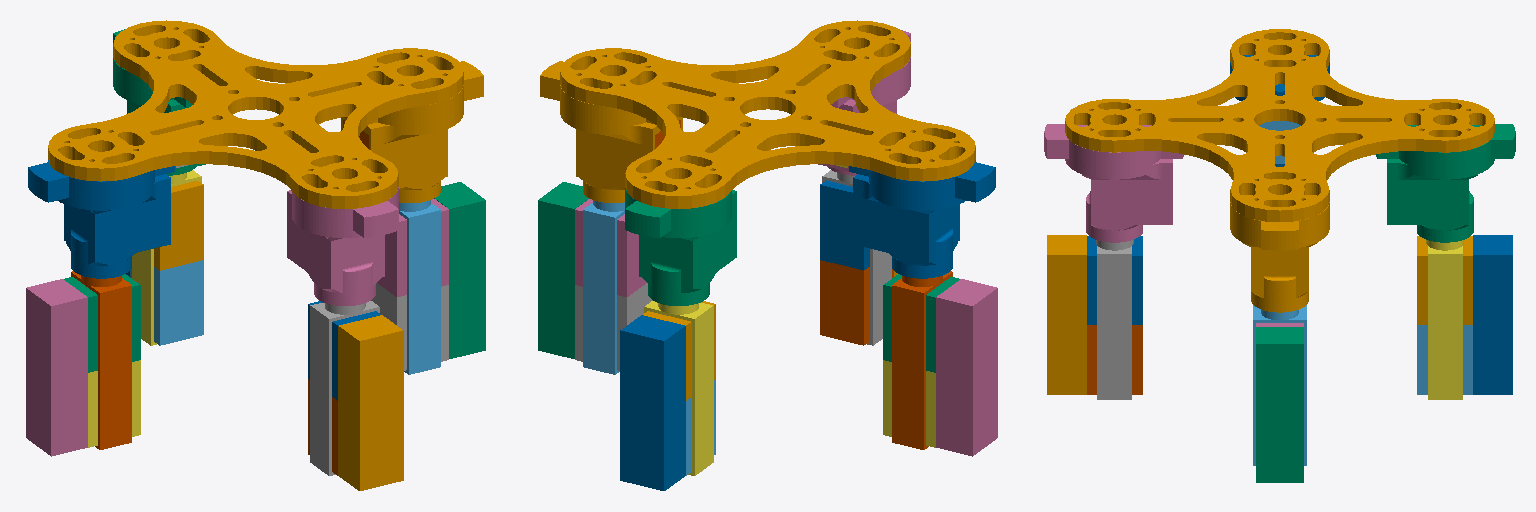
--- What the picture shows (computed from the rendered views, not written in the file) ---
Views: 3 orthographic renders of the robot side by side, from view 1: azimuth 30°, elevation 25°; view 2: azimuth 150°, elevation 25°; view 3: azimuth 270°, elevation 25°.
Robot: overconstrained_gripper — 41 links, 40 joints (20 revolute, 20 fixed); root link gripper_base; default pose: all joints at 0.
Visible links, largest first — view 1: gripper_base, b-dual_servo_transmission, a-base_motor_frame, a-dual_servo_transmission, b-base_motor_frame, c-base_motor_frame, c-dual_servo_transmission, a-dual_servo_shell, c-dual_servo_shell, b-dual_servo_shell, d-xm430_2, d-xm430_1 (+8 smaller); view 2: gripper_base, d-dual_servo_transmission, a-base_motor_frame, a-dual_servo_transmission, d-base_motor_frame, c-base_motor_frame, c-dual_servo_transmission, a-dual_servo_shell, c-dual_servo_shell, d-dual_servo_shell, b-xm430_2, b-xm430_1 (+8 smaller); view 3: gripper_base, b-base_motor_frame, d-base_motor_frame, c-dual_servo_transmission, b-dual_servo_transmission, d-dual_servo_transmission, c-base_motor_frame, b-dual_servo_shell, d-dual_servo_shell, b-xm430_1, d-xm430_1, c-dual_servo_shell (+2 smaller).
Boxes of the visible links, left/top/right/bottom form: gripper_base: left=48, top=20, right=463, bottom=208; b-dual_servo_transmission: left=338, top=315, right=403, bottom=490; a-base_motor_frame: left=28, top=160, right=174, bottom=278; a-dual_servo_transmission: left=26, top=279, right=87, bottom=456; b-base_motor_frame: left=287, top=187, right=398, bottom=305; c-base_motor_frame: left=341, top=61, right=483, bottom=202; c-dual_servo_transmission: left=434, top=182, right=485, bottom=358; a-dual_servo_shell: left=71, top=271, right=131, bottom=449; c-dual_servo_shell: left=399, top=200, right=440, bottom=374; b-dual_servo_shell: left=310, top=301, right=379, bottom=475; d-xm430_2: left=130, top=260, right=203, bottom=345; d-xm430_1: left=154, top=181, right=203, bottom=270; gripper_base: left=560, top=20, right=975, bottom=208; d-dual_servo_transmission: left=620, top=315, right=685, bottom=490; a-base_motor_frame: left=849, top=160, right=995, bottom=278; a-dual_servo_transmission: left=936, top=279, right=997, bottom=456; d-base_motor_frame: left=625, top=187, right=736, bottom=305; c-base_motor_frame: left=540, top=61, right=682, bottom=202; c-dual_servo_transmission: left=538, top=182, right=589, bottom=358; a-dual_servo_shell: left=892, top=271, right=952, bottom=449; c-dual_servo_shell: left=583, top=200, right=624, bottom=374; d-dual_servo_shell: left=644, top=301, right=713, bottom=475; b-xm430_2: left=820, top=260, right=893, bottom=345; b-xm430_1: left=820, top=180, right=869, bottom=270; gripper_base: left=1065, top=29, right=1494, bottom=221; b-base_motor_frame: left=1044, top=124, right=1183, bottom=242; d-base_motor_frame: left=1376, top=124, right=1515, bottom=242; c-dual_servo_transmission: left=1256, top=327, right=1303, bottom=482; b-dual_servo_transmission: left=1047, top=235, right=1086, bottom=394; d-dual_servo_transmission: left=1473, top=235, right=1512, bottom=394; c-base_motor_frame: left=1230, top=195, right=1329, bottom=312; b-dual_servo_shell: left=1096, top=240, right=1133, bottom=399; d-dual_servo_shell: left=1426, top=240, right=1463, bottom=399; b-xm430_1: left=1087, top=236, right=1142, bottom=324; d-xm430_1: left=1417, top=236, right=1472, bottom=324; c-dual_servo_shell: left=1253, top=305, right=1306, bottom=465.
Bounding box of the posed robot: 0.285 × 0.285 × 0.1793 m (x, y, z).
25 mesh visuals loaded from 9 distinct referenced files (3 binary STL, 2 OBJ); not drawn: 16 (reference not matched to a file when rendering).

The robot description file, URDF, robot "overconstrained_gripper":
<?xml version="1.0" ?>
<!-- =================================================================================== -->
<!-- |    This document was autogenerated by xacro from robot_xacro/gripper.urdf.xacro | -->
<!-- |    EDITING THIS FILE BY HAND IS NOT RECOMMENDED                                 | -->
<!-- =================================================================================== -->
<robot xmlns:xacro="http://www.ros.org/wiki/xacro" name="overconstrained_gripper">
  <!--Import parts from xacro file-->
  <link name="gripper_base">
    <inertial>
      <origin xyz="0 0 0.004" rpy="0 0 0"/>
      <mass value="0.2"/>
      <inertia ixx="0.001" iyy="0.001" izz="0.001" ixy="0.0" iyz="0.0" ixz="0.0"/>
    </inertial>
    <visual>
      <origin xyz="0.0 0.0 0.0" rpy="0.0 0.0 0.785"/>
      <geometry>
        <mesh filename="./mesh/frames/gripper_vertical.obj" scale="0.001 0.001 0.001"/>
      </geometry>
    </visual>
    <collision>
      <origin xyz="0.0 0.0 0.0" rpy="0.0 0.0 0.785"/>
      <geometry>
        <mesh filename="./mesh/frames/gripper_vertical.obj" scale="0.001 0.001 0.001"/>
      </geometry>
    </collision>
  </link>
  <!-->
                module 4

       module1  . origin  module 3

                 module 2
    <-->
  <link name="a-xm430_0">
    <inertial>
      <origin xyz="-4.0773796e-3 -1.5304911e-2 -1.6871895e-2" rpy="0 0 0"/>
      <mass value="0.082"/>
      <inertia ixx="2.3729564e-5" ixy="-1.3079758e-7" ixz="-8.1403365e-8" iyy="1.3112295e-5" iyz="-1.9659314e-6" izz="2.0942871e-5"/>
    </inertial>
    <visual>
      <origin xyz="0.0 0.0 0.0" rpy="0.0 0.0 0.0"/>
      <geometry>
        <mesh filename="../mesh/general/XM430-simplified.stl" scale="0.001 0.001 0.001"/>
      </geometry>
    </visual>
    <collision>
      <origin xyz="0.0 0.0 0.0" rpy="0.0 0.0 0.0"/>
      <geometry>
        <mesh filename="../mesh/general/XM430-simplified.stl" scale="0.001 0.001 0.001"/>
      </geometry>
    </collision>
  </link>
  <link name="a-xm430_1">
    <inertial>
      <origin xyz="-4.0773796e-3 -1.5304911e-2 -1.6871895e-2" rpy="0 0 0"/>
      <mass value="0.082"/>
      <inertia ixx="2.3729564e-5" ixy="-1.3079758e-7" ixz="-8.1403365e-8" iyy="1.3112295e-5" iyz="-1.9659314e-6" izz="2.0942871e-5"/>
    </inertial>
    <visual>
      <origin xyz="0.0 0.0 0.0" rpy="0.0 0.0 0.0"/>
      <geometry>
        <mesh filename="../mesh/general/XM430-simplified.stl" scale="0.001 0.001 0.001"/>
      </geometry>
    </visual>
    <collision>
      <origin xyz="0.0 0.0 0.0" rpy="0.0 0.0 0.0"/>
      <geometry>
        <mesh filename="../mesh/general/XM430-simplified.stl" scale="0.001 0.001 0.001"/>
      </geometry>
    </collision>
  </link>
  <link name="a-xm430_2">
    <inertial>
      <origin xyz="-4.0773796e-3 -1.5304911e-2 -1.6871895e-2" rpy="0 0 0"/>
      <mass value="0.082"/>
      <inertia ixx="2.3729564e-5" ixy="-1.3079758e-7" ixz="-8.1403365e-8" iyy="1.3112295e-5" iyz="-1.9659314e-6" izz="2.0942871e-5"/>
    </inertial>
    <visual>
      <origin xyz="0.0 0.0 0.0" rpy="0.0 0.0 0.0"/>
      <geometry>
        <mesh filename="../mesh/general/XM430-simplified.stl" scale="0.001 0.001 0.001"/>
      </geometry>
    </visual>
    <collision>
      <origin xyz="0.0 0.0 0.0" rpy="0.0 0.0 0.0"/>
      <geometry>
        <mesh filename="../mesh/general/XM430-simplified.stl" scale="0.001 0.001 0.001"/>
      </geometry>
    </collision>
  </link>
  <link name="a-base_motor_frame">
    <inertial>
      <origin xyz="6.48e-08 -0.0015864406 0.0250889877" rpy="0 0 0"/>
      <mass value="0.0768049156"/>
      <inertia ixx="5.65659e-05" iyy="5.30145e-05" izz="3.40217e-05" ixy="-0.0" iyz="1.1663e-06" ixz="1e-10"/>
    </inertial>
    <visual>
      <origin xyz="0 0 0" rpy="0 0 0"/>
      <geometry>
        <mesh filename="../mesh/general/base_motor_frame_simplified.stl" scale="0.001 0.001 0.001"/>
      </geometry>
    </visual>
    <collision>
      <origin xyz="0 0 0" rpy="0 0 0"/>
      <geometry>
        <mesh filename="../mesh/general/base_motor_frame_simplified.stl" scale="0.001 0.001 0.001"/>
      </geometry>
    </collision>
  </link>
  <link name="a-dual_servo_shell">
    <inertial>
      <origin xyz="0.0005322566 -0.0003161331 0.0506920676" rpy="0 0 0"/>
      <mass value="0.0258069457"/>
      <inertia ixx="4.11451e-05" iyy="4.42386e-05" izz="4.8477e-06" ixy="7.82e-08" iyz="2.774e-07" ixz="-7.721e-07"/>
    </inertial>
    <visual>
      <origin xyz="0.0 0.0 0.0" rpy="0.0 0.0 0.0"/>
      <geometry>
        <mesh filename="../mesh/general/dual_servo_shell_simplified.stl" scale="0.001 0.001 0.001"/>
      </geometry>
    </visual>
    <collision>
      <origin xyz="0.0 0.0 0.0" rpy="0.0 0.0 0.0"/>
      <geometry>
        <mesh filename="../mesh/general/dual_servo_shell_simplified.stl" scale="0.001 0.001 0.001"/>
      </geometry>
    </collision>
  </link>
  <link name="a-dual_servo_transmission">
    <inertial>
      <origin xyz="-1.41e-08 0.0095354556 0.0141401617" rpy="0 0 0"/>
      <mass value="0.0576887165"/>
      <inertia ixx="2.78223e-05" iyy="1.35978e-05" izz="2.50167e-05" ixy="5.7e-09" iyz="4.5419e-06" ixz="-0.0"/>
    </inertial>
    <visual>
      <origin xyz="0.0 0.0 0.0" rpy="0.0 0.0 0.0"/>
      <geometry>
        <mesh filename="../mesh/general/dual_servo_transmission_simplified.obj" scale="0.001 0.001 0.001"/>
      </geometry>
    </visual>
    <collision>
      <origin xyz="0.0 0.0 0.0" rpy="0.0 0.0 0.0"/>
      <geometry>
        <mesh filename="../mesh/general/dual_servo_transmission_simplified.obj" scale="0.001 0.001 0.001"/>
      </geometry>
    </collision>
  </link>
  <link name="a-link1">
    <inertial>
      <origin xyz="0.0024455616 -0.0613330624 -0.0010832509" rpy="0 0 0"/>
      <mass value="0.0299338616"/>
      <inertia ixx="5.2023e-05" iyy="1.979e-06" izz="5.17237e-05" ixy="2.0911e-06" iyz="-5.3953e-06" ixz="4.522e-07"/>
    </inertial>
    <visual>
      <origin xyz="0.0 0.0 0.0" rpy="0.0 0.0 0.0"/>
      <geometry>
        <mesh filename="../mesh/overconstrained/link1.obj" scale="0.001 0.001 0.001"/>
      </geometry>
    </visual>
    <collision>
      <origin xyz="0.0 0.0 0.0" rpy="0.0 0.0 0.0"/>
      <geometry>
        <mesh filename="../mesh/overconstrained/link1.obj" scale="0.001 0.001 0.001"/>
      </geometry>
    </collision>
  </link>
  <link name="a-link2">
    <inertial>
      <origin xyz="0.0025704082 -0.0645378917 0.0038718462" rpy="0 0 0"/>
      <mass value="0.02848145"/>
      <inertia ixx="4.53813e-05" iyy="1.3363e-06" izz="4.55555e-05" ixy="1.8569e-06" iyz="-1.3281e-06" ixz="-1.651e-07"/>
    </inertial>
    <visual>
      <origin xyz="0.0 0.0 0.0" rpy="0.0 0.0 0.0"/>
      <geometry>
        <mesh filename="../mesh/overconstrained/link2.obj" scale="0.001 0.001 0.001"/>
      </geometry>
    </visual>
    <collision>
      <origin xyz="0.0 0.0 0.0" rpy="0.0 0.0 0.0"/>
      <geometry>
        <mesh filename="../mesh/overconstrained/link2.obj" scale="0.001 0.001 0.001"/>
      </geometry>
    </collision>
  </link>
  <link name="a-link4">
    <inertial>
      <origin xyz="-0.0026422902 -0.067590774 -0.0033849791" rpy="0 0 0"/>
      <mass value="0.0275608119"/>
      <inertia ixx="3.84633e-05" iyy="1.4218e-06" izz="3.88256e-05" ixy="-1.6444e-06" iyz="4.345e-07" ixz="-2.013e-07"/>
    </inertial>
    <visual>
      <origin xyz="0.0 0.0 0.0" rpy="0.0 0.0 0.0"/>
      <geometry>
        <mesh filename="../mesh/overconstrained/link4.obj" scale="0.001 0.001 0.001"/>
      </geometry>
    </visual>
    <collision>
      <origin xyz="0.0 0.0 0.0" rpy="0.0 0.0 0.0"/>
      <geometry>
        <mesh filename="../mesh/overconstrained/link4.obj" scale="0.001 0.001 0.001"/>
      </geometry>
    </collision>
  </link>
  <link name="a-link3">
    <inertial>
      <origin xyz="0.002386501 -0.0533785592 -0.0003073645" rpy="0 0 0"/>
      <mass value="0.0217645964"/>
      <inertia ixx="3.57111e-05" iyy="1.2113e-06" izz="3.54138e-05" ixy="1.7199e-06" iyz="-4.1867e-06" ixz="1.471e-07"/>
    </inertial>
    <visual>
      <origin xyz="0.0 0.0 0.0" rpy="0.0 0.0 0.0"/>
      <geometry>
        <mesh filename="../mesh/overconstrained/link3.obj" scale="0.001 0.001 0.001"/>
      </geometry>
    </visual>
    <collision>
      <origin xyz="0.0 0.0 0.0" rpy="0.0 0.0 0.0"/>
      <geometry>
        <mesh filename="../mesh/overconstrained/link3.obj" scale="0.001 0.001 0.001"/>
      </geometry>
    </collision>
  </link>
  <joint name="a-module_to_parent" type="fixed">
    <parent link="gripper_base"/>
    <child link="a-base_motor_frame"/>
    <origin xyz="-0.1 0 0" rpy="3.14159265 0 -1.570796325"/>
  </joint>
  <joint name="a-fix_xm430_0" type="fixed">
    <parent link="a-base_motor_frame"/>
    <child link="a-xm430_0"/>
    <origin xyz="0 0 0.054" rpy="0 0 0"/>
  </joint>
  <joint name="a-fix_xm430_1" type="fixed">
    <parent link="a-dual_servo_shell"/>
    <child link="a-xm430_1"/>
    <origin xyz="0 0.019 0.0334" rpy="-1.570796325 0 0"/>
  </joint>
  <joint name="a-fix_xm430_2" type="fixed">
    <parent link="a-xm430_1"/>
    <child link="a-xm430_2"/>
    <origin xyz="0 -0.0465 0" rpy="0 0 0"/>
  </joint>
  <joint name="a-fix_transmission" type="fixed">
    <parent link="a-xm430_2"/>
    <child link="a-dual_servo_transmission"/>
    <origin xyz="0 0 0" rpy="0 0 0"/>
  </joint>
  <joint name="a-dof1" type="revolute">
    <parent link="a-xm430_0"/>
    <child link="a-dual_servo_shell"/>
    <axis xyz="0 0 -1"/>
    <limit effort="1000" lower="-3.14159265" upper="3.14159265" velocity="1000"/>
    <origin xyz="0 0 0" rpy="0 0 0"/>
  </joint>
  <joint name="a-dof2" type="revolute">
    <parent link="a-xm430_2"/>
    <child link="a-link4"/>
    <axis xyz="0 0 -1"/>
    <limit effort="1000" lower="-3.14159265" upper="3.14159265" velocity="1000"/>
    <origin xyz="0 0 0.0368" rpy="0 0 0"/>
  </joint>
  <joint name="a-dof3" type="revolute">
    <parent link="a-xm430_2"/>
    <child link="a-link1"/>
    <axis xyz="0 0 -1"/>
    <limit effort="1000" lower="-3.14159265" upper="3.14159265" velocity="1000"/>
    <origin xyz="0 0 0.0388" rpy="0 0 0"/>
  </joint>
  <joint name="a-link4_to_link3" type="revolute">
    <parent link="a-link4"/>
    <child link="a-link3"/>
    <axis xyz="0 0 1"/>
    <limit effort="1000" lower="-3.14159265" upper="3.14159265" velocity="1000"/>
    <origin xyz="0.000707 -0.1 0.001707" rpy="0 0.7853981625 0"/>
  </joint>
  <joint name="a-link1_to_link2" type="revolute">
    <parent link="a-link1"/>
    <child link="a-link2"/>
    <axis xyz="0 0 1"/>
    <limit effort="1000" lower="-3.14159265" upper="3.14159265" velocity="1000"/>
    <origin xyz="-0.000707 -0.1 -0.000293" rpy="0 -0.7853981625 0"/>
  </joint>
  <link name="b-xm430_0">
    <inertial>
      <origin xyz="-4.0773796e-3 -1.5304911e-2 -1.6871895e-2" rpy="0 0 0"/>
      <mass value="0.082"/>
      <inertia ixx="2.3729564e-5" ixy="-1.3079758e-7" ixz="-8.1403365e-8" iyy="1.3112295e-5" iyz="-1.9659314e-6" izz="2.0942871e-5"/>
    </inertial>
    <visual>
      <origin xyz="0.0 0.0 0.0" rpy="0.0 0.0 0.0"/>
      <geometry>
        <mesh filename="../mesh/general/XM430-simplified.stl" scale="0.001 0.001 0.001"/>
      </geometry>
    </visual>
    <collision>
      <origin xyz="0.0 0.0 0.0" rpy="0.0 0.0 0.0"/>
      <geometry>
        <mesh filename="../mesh/general/XM430-simplified.stl" scale="0.001 0.001 0.001"/>
      </geometry>
    </collision>
  </link>
  <link name="b-xm430_1">
    <inertial>
      <origin xyz="-4.0773796e-3 -1.5304911e-2 -1.6871895e-2" rpy="0 0 0"/>
      <mass value="0.082"/>
      <inertia ixx="2.3729564e-5" ixy="-1.3079758e-7" ixz="-8.1403365e-8" iyy="1.3112295e-5" iyz="-1.9659314e-6" izz="2.0942871e-5"/>
    </inertial>
    <visual>
      <origin xyz="0.0 0.0 0.0" rpy="0.0 0.0 0.0"/>
      <geometry>
        <mesh filename="../mesh/general/XM430-simplified.stl" scale="0.001 0.001 0.001"/>
      </geometry>
    </visual>
    <collision>
      <origin xyz="0.0 0.0 0.0" rpy="0.0 0.0 0.0"/>
      <geometry>
        <mesh filename="../mesh/general/XM430-simplified.stl" scale="0.001 0.001 0.001"/>
      </geometry>
    </collision>
  </link>
  <link name="b-xm430_2">
    <inertial>
      <origin xyz="-4.0773796e-3 -1.5304911e-2 -1.6871895e-2" rpy="0 0 0"/>
      <mass value="0.082"/>
      <inertia ixx="2.3729564e-5" ixy="-1.3079758e-7" ixz="-8.1403365e-8" iyy="1.3112295e-5" iyz="-1.9659314e-6" izz="2.0942871e-5"/>
    </inertial>
    <visual>
      <origin xyz="0.0 0.0 0.0" rpy="0.0 0.0 0.0"/>
      <geometry>
        <mesh filename="../mesh/general/XM430-simplified.stl" scale="0.001 0.001 0.001"/>
      </geometry>
    </visual>
    <collision>
      <origin xyz="0.0 0.0 0.0" rpy="0.0 0.0 0.0"/>
      <geometry>
        <mesh filename="../mesh/general/XM430-simplified.stl" scale="0.001 0.001 0.001"/>
      </geometry>
    </collision>
  </link>
  <link name="b-base_motor_frame">
    <inertial>
      <origin xyz="6.48e-08 -0.0015864406 0.0250889877" rpy="0 0 0"/>
      <mass value="0.0768049156"/>
      <inertia ixx="5.65659e-05" iyy="5.30145e-05" izz="3.40217e-05" ixy="-0.0" iyz="1.1663e-06" ixz="1e-10"/>
    </inertial>
    <visual>
      <origin xyz="0 0 0" rpy="0 0 0"/>
      <geometry>
        <mesh filename="../mesh/general/base_motor_frame_simplified.stl" scale="0.001 0.001 0.001"/>
      </geometry>
    </visual>
    <collision>
      <origin xyz="0 0 0" rpy="0 0 0"/>
      <geometry>
        <mesh filename="../mesh/general/base_motor_frame_simplified.stl" scale="0.001 0.001 0.001"/>
      </geometry>
    </collision>
  </link>
  <link name="b-dual_servo_shell">
    <inertial>
      <origin xyz="0.0005322566 -0.0003161331 0.0506920676" rpy="0 0 0"/>
      <mass value="0.0258069457"/>
      <inertia ixx="4.11451e-05" iyy="4.42386e-05" izz="4.8477e-06" ixy="7.82e-08" iyz="2.774e-07" ixz="-7.721e-07"/>
    </inertial>
    <visual>
      <origin xyz="0.0 0.0 0.0" rpy="0.0 0.0 0.0"/>
      <geometry>
        <mesh filename="../mesh/general/dual_servo_shell_simplified.stl" scale="0.001 0.001 0.001"/>
      </geometry>
    </visual>
    <collision>
      <origin xyz="0.0 0.0 0.0" rpy="0.0 0.0 0.0"/>
      <geometry>
        <mesh filename="../mesh/general/dual_servo_shell_simplified.stl" scale="0.001 0.001 0.001"/>
      </geometry>
    </collision>
  </link>
  <link name="b-dual_servo_transmission">
    <inertial>
      <origin xyz="-1.41e-08 0.0095354556 0.0141401617" rpy="0 0 0"/>
      <mass value="0.0576887165"/>
      <inertia ixx="2.78223e-05" iyy="1.35978e-05" izz="2.50167e-05" ixy="5.7e-09" iyz="4.5419e-06" ixz="-0.0"/>
    </inertial>
    <visual>
      <origin xyz="0.0 0.0 0.0" rpy="0.0 0.0 0.0"/>
      <geometry>
        <mesh filename="../mesh/general/dual_servo_transmission_simplified.obj" scale="0.001 0.001 0.001"/>
      </geometry>
    </visual>
    <collision>
      <origin xyz="0.0 0.0 0.0" rpy="0.0 0.0 0.0"/>
      <geometry>
        <mesh filename="../mesh/general/dual_servo_transmission_simplified.obj" scale="0.001 0.001 0.001"/>
      </geometry>
    </collision>
  </link>
  <link name="b-link1">
    <inertial>
      <origin xyz="0.0024455616 -0.0613330624 -0.0010832509" rpy="0 0 0"/>
      <mass value="0.0299338616"/>
      <inertia ixx="5.2023e-05" iyy="1.979e-06" izz="5.17237e-05" ixy="2.0911e-06" iyz="-5.3953e-06" ixz="4.522e-07"/>
    </inertial>
    <visual>
      <origin xyz="0.0 0.0 0.0" rpy="0.0 0.0 0.0"/>
      <geometry>
        <mesh filename="../mesh/overconstrained/link1.obj" scale="0.001 0.001 0.001"/>
      </geometry>
    </visual>
    <collision>
      <origin xyz="0.0 0.0 0.0" rpy="0.0 0.0 0.0"/>
      <geometry>
        <mesh filename="../mesh/overconstrained/link1.obj" scale="0.001 0.001 0.001"/>
      </geometry>
    </collision>
  </link>
  <link name="b-link2">
    <inertial>
      <origin xyz="0.0025704082 -0.0645378917 0.0038718462" rpy="0 0 0"/>
      <mass value="0.02848145"/>
      <inertia ixx="4.53813e-05" iyy="1.3363e-06" izz="4.55555e-05" ixy="1.8569e-06" iyz="-1.3281e-06" ixz="-1.651e-07"/>
    </inertial>
    <visual>
      <origin xyz="0.0 0.0 0.0" rpy="0.0 0.0 0.0"/>
      <geometry>
        <mesh filename="../mesh/overconstrained/link2.obj" scale="0.001 0.001 0.001"/>
      </geometry>
    </visual>
    <collision>
      <origin xyz="0.0 0.0 0.0" rpy="0.0 0.0 0.0"/>
      <geometry>
        <mesh filename="../mesh/overconstrained/link2.obj" scale="0.001 0.001 0.001"/>
      </geometry>
    </collision>
  </link>
  <link name="b-link4">
    <inertial>
      <origin xyz="-0.0026422902 -0.067590774 -0.0033849791" rpy="0 0 0"/>
      <mass value="0.0275608119"/>
      <inertia ixx="3.84633e-05" iyy="1.4218e-06" izz="3.88256e-05" ixy="-1.6444e-06" iyz="4.345e-07" ixz="-2.013e-07"/>
    </inertial>
    <visual>
      <origin xyz="0.0 0.0 0.0" rpy="0.0 0.0 0.0"/>
      <geometry>
        <mesh filename="../mesh/overconstrained/link4.obj" scale="0.001 0.001 0.001"/>
      </geometry>
    </visual>
    <collision>
      <origin xyz="0.0 0.0 0.0" rpy="0.0 0.0 0.0"/>
      <geometry>
        <mesh filename="../mesh/overconstrained/link4.obj" scale="0.001 0.001 0.001"/>
      </geometry>
    </collision>
  </link>
  <link name="b-link3">
    <inertial>
      <origin xyz="0.002386501 -0.0533785592 -0.0003073645" rpy="0 0 0"/>
      <mass value="0.0217645964"/>
      <inertia ixx="3.57111e-05" iyy="1.2113e-06" izz="3.54138e-05" ixy="1.7199e-06" iyz="-4.1867e-06" ixz="1.471e-07"/>
    </inertial>
    <visual>
      <origin xyz="0.0 0.0 0.0" rpy="0.0 0.0 0.0"/>
      <geometry>
        <mesh filename="../mesh/overconstrained/link3.obj" scale="0.001 0.001 0.001"/>
      </geometry>
    </visual>
    <collision>
      <origin xyz="0.0 0.0 0.0" rpy="0.0 0.0 0.0"/>
      <geometry>
        <mesh filename="../mesh/overconstrained/link3.obj" scale="0.001 0.001 0.001"/>
      </geometry>
    </collision>
  </link>
  <joint name="b-module_to_parent" type="fixed">
    <parent link="gripper_base"/>
    <child link="b-base_motor_frame"/>
    <origin xyz="0 -0.1 0" rpy="3.14159265 0 0"/>
  </joint>
  <joint name="b-fix_xm430_0" type="fixed">
    <parent link="b-base_motor_frame"/>
    <child link="b-xm430_0"/>
    <origin xyz="0 0 0.054" rpy="0 0 0"/>
  </joint>
  <joint name="b-fix_xm430_1" type="fixed">
    <parent link="b-dual_servo_shell"/>
    <child link="b-xm430_1"/>
    <origin xyz="0 0.019 0.0334" rpy="-1.570796325 0 0"/>
  </joint>
  <joint name="b-fix_xm430_2" type="fixed">
    <parent link="b-xm430_1"/>
    <child link="b-xm430_2"/>
    <origin xyz="0 -0.0465 0" rpy="0 0 0"/>
  </joint>
  <joint name="b-fix_transmission" type="fixed">
    <parent link="b-xm430_2"/>
    <child link="b-dual_servo_transmission"/>
    <origin xyz="0 0 0" rpy="0 0 0"/>
  </joint>
  <joint name="b-dof1" type="revolute">
    <parent link="b-xm430_0"/>
    <child link="b-dual_servo_shell"/>
    <axis xyz="0 0 -1"/>
    <limit effort="1000" lower="-3.14159265" upper="3.14159265" velocity="1000"/>
    <origin xyz="0 0 0" rpy="0 0 0"/>
  </joint>
  <joint name="b-dof2" type="revolute">
    <parent link="b-xm430_2"/>
    <child link="b-link4"/>
    <axis xyz="0 0 -1"/>
    <limit effort="1000" lower="-3.14159265" upper="3.14159265" velocity="1000"/>
    <origin xyz="0 0 0.0368" rpy="0 0 0"/>
  </joint>
  <joint name="b-dof3" type="revolute">
    <parent link="b-xm430_2"/>
    <child link="b-link1"/>
    <axis xyz="0 0 -1"/>
    <limit effort="1000" lower="-3.14159265" upper="3.14159265" velocity="1000"/>
    <origin xyz="0 0 0.0388" rpy="0 0 0"/>
  </joint>
  <joint name="b-link4_to_link3" type="revolute">
    <parent link="b-link4"/>
    <child link="b-link3"/>
    <axis xyz="0 0 1"/>
    <limit effort="1000" lower="-3.14159265" upper="3.14159265" velocity="1000"/>
    <origin xyz="0.000707 -0.1 0.001707" rpy="0 0.7853981625 0"/>
  </joint>
  <joint name="b-link1_to_link2" type="revolute">
    <parent link="b-link1"/>
    <child link="b-link2"/>
    <axis xyz="0 0 1"/>
    <limit effort="1000" lower="-3.14159265" upper="3.14159265" velocity="1000"/>
    <origin xyz="-0.000707 -0.1 -0.000293" rpy="0 -0.7853981625 0"/>
  </joint>
  <link name="c-xm430_0">
    <inertial>
      <origin xyz="-4.0773796e-3 -1.5304911e-2 -1.6871895e-2" rpy="0 0 0"/>
      <mass value="0.082"/>
      <inertia ixx="2.3729564e-5" ixy="-1.3079758e-7" ixz="-8.1403365e-8" iyy="1.3112295e-5" iyz="-1.9659314e-6" izz="2.0942871e-5"/>
    </inertial>
    <visual>
      <origin xyz="0.0 0.0 0.0" rpy="0.0 0.0 0.0"/>
      <geometry>
        <mesh filename="../mesh/general/XM430-simplified.stl" scale="0.001 0.001 0.001"/>
      </geometry>
    </visual>
    <collision>
      <origin xyz="0.0 0.0 0.0" rpy="0.0 0.0 0.0"/>
      <geometry>
        <mesh filename="../mesh/general/XM430-simplified.stl" scale="0.001 0.001 0.001"/>
      </geometry>
    </collision>
  </link>
  <link name="c-xm430_1">
    <inertial>
      <origin xyz="-4.0773796e-3 -1.5304911e-2 -1.6871895e-2" rpy="0 0 0"/>
      <mass value="0.082"/>
      <inertia ixx="2.3729564e-5" ixy="-1.3079758e-7" ixz="-8.1403365e-8" iyy="1.3112295e-5" iyz="-1.9659314e-6" izz="2.0942871e-5"/>
    </inertial>
    <visual>
      <origin xyz="0.0 0.0 0.0" rpy="0.0 0.0 0.0"/>
      <geometry>
        <mesh filename="../mesh/general/XM430-simplified.stl" scale="0.001 0.001 0.001"/>
      </geometry>
    </visual>
    <collision>
      <origin xyz="0.0 0.0 0.0" rpy="0.0 0.0 0.0"/>
      <geometry>
        <mesh filename="../mesh/general/XM430-simplified.stl" scale="0.001 0.001 0.001"/>
      </geometry>
    </collision>
  </link>
  <link name="c-xm430_2">
    <inertial>
      <origin xyz="-4.0773796e-3 -1.5304911e-2 -1.6871895e-2" rpy="0 0 0"/>
      <mass value="0.082"/>
      <inertia ixx="2.3729564e-5" ixy="-1.3079758e-7" ixz="-8.1403365e-8" iyy="1.3112295e-5" iyz="-1.9659314e-6" izz="2.0942871e-5"/>
    </inertial>
    <visual>
      <origin xyz="0.0 0.0 0.0" rpy="0.0 0.0 0.0"/>
      <geometry>
        <mesh filename="../mesh/general/XM430-simplified.stl" scale="0.001 0.001 0.001"/>
      </geometry>
    </visual>
    <collision>
      <origin xyz="0.0 0.0 0.0" rpy="0.0 0.0 0.0"/>
      <geometry>
        <mesh filename="../mesh/general/XM430-simplified.stl" scale="0.001 0.001 0.001"/>
      </geometry>
    </collision>
  </link>
  <link name="c-base_motor_frame">
    <inertial>
      <origin xyz="6.48e-08 -0.0015864406 0.0250889877" rpy="0 0 0"/>
      <mass value="0.0768049156"/>
      <inertia ixx="5.65659e-05" iyy="5.30145e-05" izz="3.40217e-05" ixy="-0.0" iyz="1.1663e-06" ixz="1e-10"/>
    </inertial>
    <visual>
      <origin xyz="0 0 0" rpy="0 0 0"/>
      <geometry>
        <mesh filename="../mesh/general/base_motor_frame_simplified.stl" scale="0.001 0.001 0.001"/>
      </geometry>
    </visual>
    <collision>
      <origin xyz="0 0 0" rpy="0 0 0"/>
      <geometry>
        <mesh filename="../mesh/general/base_motor_frame_simplified.stl" scale="0.001 0.001 0.001"/>
      </geometry>
    </collision>
  </link>
  <link name="c-dual_servo_shell">
    <inertial>
      <origin xyz="0.0005322566 -0.0003161331 0.0506920676" rpy="0 0 0"/>
      <mass value="0.0258069457"/>
      <inertia ixx="4.11451e-05" iyy="4.42386e-05" izz="4.8477e-06" ixy="7.82e-08" iyz="2.774e-07" ixz="-7.721e-07"/>
    </inertial>
    <visual>
      <origin xyz="0.0 0.0 0.0" rpy="0.0 0.0 0.0"/>
      <geometry>
        <mesh filename="../mesh/general/dual_servo_shell_simplified.stl" scale="0.001 0.001 0.001"/>
      </geometry>
    </visual>
    <collision>
      <origin xyz="0.0 0.0 0.0" rpy="0.0 0.0 0.0"/>
      <geometry>
        <mesh filename="../mesh/general/dual_servo_shell_simplified.stl" scale="0.001 0.001 0.001"/>
      </geometry>
    </collision>
  </link>
  <link name="c-dual_servo_transmission">
    <inertial>
      <origin xyz="-1.41e-08 0.0095354556 0.0141401617" rpy="0 0 0"/>
      <mass value="0.0576887165"/>
      <inertia ixx="2.78223e-05" iyy="1.35978e-05" izz="2.50167e-05" ixy="5.7e-09" iyz="4.5419e-06" ixz="-0.0"/>
    </inertial>
    <visual>
      <origin xyz="0.0 0.0 0.0" rpy="0.0 0.0 0.0"/>
      <geometry>
        <mesh filename="../mesh/general/dual_servo_transmission_simplified.obj" scale="0.001 0.001 0.001"/>
      </geometry>
    </visual>
    <collision>
      <origin xyz="0.0 0.0 0.0" rpy="0.0 0.0 0.0"/>
      <geometry>
        <mesh filename="../mesh/general/dual_servo_transmission_simplified.obj" scale="0.001 0.001 0.001"/>
      </geometry>
    </collision>
  </link>
  <link name="c-link1">
    <inertial>
      <origin xyz="0.0024455616 -0.0613330624 -0.0010832509" rpy="0 0 0"/>
      <mass value="0.0299338616"/>
      <inertia ixx="5.2023e-05" iyy="1.979e-06" izz="5.17237e-05" ixy="2.0911e-06" iyz="-5.3953e-06" ixz="4.522e-07"/>
    </inertial>
    <visual>
      <origin xyz="0.0 0.0 0.0" rpy="0.0 0.0 0.0"/>
      <geometry>
        <mesh filename="../mesh/overconstrained/link1.obj" scale="0.001 0.001 0.001"/>
      </geometry>
    </visual>
    <collision>
      <origin xyz="0.0 0.0 0.0" rpy="0.0 0.0 0.0"/>
      <geometry>
        <mesh filename="../mesh/overconstrained/link1.obj" scale="0.001 0.001 0.001"/>
      </geometry>
    </collision>
  </link>
  <link name="c-link2">
    <inertial>
      <origin xyz="0.0025704082 -0.0645378917 0.0038718462" rpy="0 0 0"/>
      <mass value="0.02848145"/>
      <inertia ixx="4.53813e-05" iyy="1.3363e-06" izz="4.55555e-05" ixy="1.8569e-06" iyz="-1.3281e-06" ixz="-1.651e-07"/>
    </inertial>
    <visual>
      <origin xyz="0.0 0.0 0.0" rpy="0.0 0.0 0.0"/>
      <geometry>
        <mesh filename="../mesh/overconstrained/link2.obj" scale="0.001 0.001 0.001"/>
      </geometry>
    </visual>
    <collision>
      <origin xyz="0.0 0.0 0.0" rpy="0.0 0.0 0.0"/>
      <geometry>
        <mesh filename="../mesh/overconstrained/link2.obj" scale="0.001 0.001 0.001"/>
      </geometry>
    </collision>
  </link>
  <link name="c-link4">
    <inertial>
      <origin xyz="-0.0026422902 -0.067590774 -0.0033849791" rpy="0 0 0"/>
      <mass value="0.0275608119"/>
      <inertia ixx="3.84633e-05" iyy="1.4218e-06" izz="3.88256e-05" ixy="-1.6444e-06" iyz="4.345e-07" ixz="-2.013e-07"/>
    </inertial>
    <visual>
      <origin xyz="0.0 0.0 0.0" rpy="0.0 0.0 0.0"/>
      <geometry>
        <mesh filename="../mesh/overconstrained/link4.obj" scale="0.001 0.001 0.001"/>
      </geometry>
    </visual>
    <collision>
      <origin xyz="0.0 0.0 0.0" rpy="0.0 0.0 0.0"/>
      <geometry>
        <mesh filename="../mesh/overconstrained/link4.obj" scale="0.001 0.001 0.001"/>
      </geometry>
    </collision>
  </link>
  <link name="c-link3">
    <inertial>
      <origin xyz="0.002386501 -0.0533785592 -0.0003073645" rpy="0 0 0"/>
      <mass value="0.0217645964"/>
      <inertia ixx="3.57111e-05" iyy="1.2113e-06" izz="3.54138e-05" ixy="1.7199e-06" iyz="-4.1867e-06" ixz="1.471e-07"/>
    </inertial>
    <visual>
      <origin xyz="0.0 0.0 0.0" rpy="0.0 0.0 0.0"/>
      <geometry>
        <mesh filename="../mesh/overconstrained/link3.obj" scale="0.001 0.001 0.001"/>
      </geometry>
    </visual>
    <collision>
      <origin xyz="0.0 0.0 0.0" rpy="0.0 0.0 0.0"/>
      <geometry>
        <mesh filename="../mesh/overconstrained/link3.obj" scale="0.001 0.001 0.001"/>
      </geometry>
    </collision>
  </link>
  <joint name="c-module_to_parent" type="fixed">
    <parent link="gripper_base"/>
    <child link="c-base_motor_frame"/>
    <origin xyz="0.1 0 0" rpy="3.14159265 0 1.570796325"/>
  </joint>
  <joint name="c-fix_xm430_0" type="fixed">
    <parent link="c-base_motor_frame"/>
    <child link="c-xm430_0"/>
    <origin xyz="0 0 0.054" rpy="0 0 0"/>
  </joint>
  <joint name="c-fix_xm430_1" type="fixed">
    <parent link="c-dual_servo_shell"/>
    <child link="c-xm430_1"/>
    <origin xyz="0 0.019 0.0334" rpy="-1.570796325 0 0"/>
  </joint>
  <joint name="c-fix_xm430_2" type="fixed">
    <parent link="c-xm430_1"/>
    <child link="c-xm430_2"/>
    <origin xyz="0 -0.0465 0" rpy="0 0 0"/>
  </joint>
  <joint name="c-fix_transmission" type="fixed">
    <parent link="c-xm430_2"/>
    <child link="c-dual_servo_transmission"/>
    <origin xyz="0 0 0" rpy="0 0 0"/>
  </joint>
  <joint name="c-dof1" type="revolute">
    <parent link="c-xm430_0"/>
    <child link="c-dual_servo_shell"/>
    <axis xyz="0 0 -1"/>
    <limit effort="1000" lower="-3.14159265" upper="3.14159265" velocity="1000"/>
    <origin xyz="0 0 0" rpy="0 0 0"/>
  </joint>
  <joint name="c-dof2" type="revolute">
    <parent link="c-xm430_2"/>
    <child link="c-link4"/>
    <axis xyz="0 0 -1"/>
    <limit effort="1000" lower="-3.14159265" upper="3.14159265" velocity="1000"/>
    <origin xyz="0 0 0.0368" rpy="0 0 0"/>
  </joint>
  <joint name="c-dof3" type="revolute">
    <parent link="c-xm430_2"/>
    <child link="c-link1"/>
    <axis xyz="0 0 -1"/>
    <limit effort="1000" lower="-3.14159265" upper="3.14159265" velocity="1000"/>
    <origin xyz="0 0 0.0388" rpy="0 0 0"/>
  </joint>
  <joint name="c-link4_to_link3" type="revolute">
    <parent link="c-link4"/>
    <child link="c-link3"/>
    <axis xyz="0 0 1"/>
    <limit effort="1000" lower="-3.14159265" upper="3.14159265" velocity="1000"/>
    <origin xyz="0.000707 -0.1 0.001707" rpy="0 0.7853981625 0"/>
  </joint>
  <joint name="c-link1_to_link2" type="revolute">
    <parent link="c-link1"/>
    <child link="c-link2"/>
    <axis xyz="0 0 1"/>
    <limit effort="1000" lower="-3.14159265" upper="3.14159265" velocity="1000"/>
    <origin xyz="-0.000707 -0.1 -0.000293" rpy="0 -0.7853981625 0"/>
  </joint>
  <link name="d-xm430_0">
    <inertial>
      <origin xyz="-4.0773796e-3 -1.5304911e-2 -1.6871895e-2" rpy="0 0 0"/>
      <mass value="0.082"/>
      <inertia ixx="2.3729564e-5" ixy="-1.3079758e-7" ixz="-8.1403365e-8" iyy="1.3112295e-5" iyz="-1.9659314e-6" izz="2.0942871e-5"/>
    </inertial>
    <visual>
      <origin xyz="0.0 0.0 0.0" rpy="0.0 0.0 0.0"/>
      <geometry>
        <mesh filename="../mesh/general/XM430-simplified.stl" scale="0.001 0.001 0.001"/>
      </geometry>
    </visual>
    <collision>
      <origin xyz="0.0 0.0 0.0" rpy="0.0 0.0 0.0"/>
      <geometry>
        <mesh filename="../mesh/general/XM430-simplified.stl" scale="0.001 0.001 0.001"/>
      </geometry>
    </collision>
  </link>
  <link name="d-xm430_1">
    <inertial>
      <origin xyz="-4.0773796e-3 -1.5304911e-2 -1.6871895e-2" rpy="0 0 0"/>
      <mass value="0.082"/>
      <inertia ixx="2.3729564e-5" ixy="-1.3079758e-7" ixz="-8.1403365e-8" iyy="1.3112295e-5" iyz="-1.9659314e-6" izz="2.0942871e-5"/>
    </inertial>
    <visual>
      <origin xyz="0.0 0.0 0.0" rpy="0.0 0.0 0.0"/>
      <geometry>
        <mesh filename="../mesh/general/XM430-simplified.stl" scale="0.001 0.001 0.001"/>
      </geometry>
    </visual>
    <collision>
      <origin xyz="0.0 0.0 0.0" rpy="0.0 0.0 0.0"/>
      <geometry>
        <mesh filename="../mesh/general/XM430-simplified.stl" scale="0.001 0.001 0.001"/>
      </geometry>
    </collision>
  </link>
  <link name="d-xm430_2">
    <inertial>
      <origin xyz="-4.0773796e-3 -1.5304911e-2 -1.6871895e-2" rpy="0 0 0"/>
      <mass value="0.082"/>
      <inertia ixx="2.3729564e-5" ixy="-1.3079758e-7" ixz="-8.1403365e-8" iyy="1.3112295e-5" iyz="-1.9659314e-6" izz="2.0942871e-5"/>
    </inertial>
    <visual>
      <origin xyz="0.0 0.0 0.0" rpy="0.0 0.0 0.0"/>
      <geometry>
        <mesh filename="../mesh/general/XM430-simplified.stl" scale="0.001 0.001 0.001"/>
      </geometry>
    </visual>
    <collision>
      <origin xyz="0.0 0.0 0.0" rpy="0.0 0.0 0.0"/>
      <geometry>
        <mesh filename="../mesh/general/XM430-simplified.stl" scale="0.001 0.001 0.001"/>
      </geometry>
    </collision>
  </link>
  <link name="d-base_motor_frame">
    <inertial>
      <origin xyz="6.48e-08 -0.0015864406 0.0250889877" rpy="0 0 0"/>
      <mass value="0.0768049156"/>
      <inertia ixx="5.65659e-05" iyy="5.30145e-05" izz="3.40217e-05" ixy="-0.0" iyz="1.1663e-06" ixz="1e-10"/>
    </inertial>
    <visual>
      <origin xyz="0 0 0" rpy="0 0 0"/>
      <geometry>
        <mesh filename="../mesh/general/base_motor_frame_simplified.stl" scale="0.001 0.001 0.001"/>
      </geometry>
    </visual>
    <collision>
      <origin xyz="0 0 0" rpy="0 0 0"/>
      <geometry>
        <mesh filename="../mesh/general/base_motor_frame_simplified.stl" scale="0.001 0.001 0.001"/>
      </geometry>
    </collision>
  </link>
  <link name="d-dual_servo_shell">
    <inertial>
      <origin xyz="0.0005322566 -0.0003161331 0.0506920676" rpy="0 0 0"/>
      <mass value="0.0258069457"/>
      <inertia ixx="4.11451e-05" iyy="4.42386e-05" izz="4.8477e-06" ixy="7.82e-08" iyz="2.774e-07" ixz="-7.721e-07"/>
    </inertial>
    <visual>
      <origin xyz="0.0 0.0 0.0" rpy="0.0 0.0 0.0"/>
      <geometry>
        <mesh filename="../mesh/general/dual_servo_shell_simplified.stl" scale="0.001 0.001 0.001"/>
      </geometry>
    </visual>
    <collision>
      <origin xyz="0.0 0.0 0.0" rpy="0.0 0.0 0.0"/>
      <geometry>
        <mesh filename="../mesh/general/dual_servo_shell_simplified.stl" scale="0.001 0.001 0.001"/>
      </geometry>
    </collision>
  </link>
  <link name="d-dual_servo_transmission">
    <inertial>
      <origin xyz="-1.41e-08 0.0095354556 0.0141401617" rpy="0 0 0"/>
      <mass value="0.0576887165"/>
      <inertia ixx="2.78223e-05" iyy="1.35978e-05" izz="2.50167e-05" ixy="5.7e-09" iyz="4.5419e-06" ixz="-0.0"/>
    </inertial>
    <visual>
      <origin xyz="0.0 0.0 0.0" rpy="0.0 0.0 0.0"/>
      <geometry>
        <mesh filename="../mesh/general/dual_servo_transmission_simplified.obj" scale="0.001 0.001 0.001"/>
      </geometry>
    </visual>
    <collision>
      <origin xyz="0.0 0.0 0.0" rpy="0.0 0.0 0.0"/>
      <geometry>
        <mesh filename="../mesh/general/dual_servo_transmission_simplified.obj" scale="0.001 0.001 0.001"/>
      </geometry>
    </collision>
  </link>
  <link name="d-link1">
    <inertial>
      <origin xyz="0.0024455616 -0.0613330624 -0.0010832509" rpy="0 0 0"/>
      <mass value="0.0299338616"/>
      <inertia ixx="5.2023e-05" iyy="1.979e-06" izz="5.17237e-05" ixy="2.0911e-06" iyz="-5.3953e-06" ixz="4.522e-07"/>
    </inertial>
    <visual>
      <origin xyz="0.0 0.0 0.0" rpy="0.0 0.0 0.0"/>
      <geometry>
        <mesh filename="../mesh/overconstrained/link1.obj" scale="0.001 0.001 0.001"/>
      </geometry>
    </visual>
    <collision>
      <origin xyz="0.0 0.0 0.0" rpy="0.0 0.0 0.0"/>
      <geometry>
        <mesh filename="../mesh/overconstrained/link1.obj" scale="0.001 0.001 0.001"/>
      </geometry>
    </collision>
  </link>
  <link name="d-link2">
    <inertial>
      <origin xyz="0.0025704082 -0.0645378917 0.0038718462" rpy="0 0 0"/>
      <mass value="0.02848145"/>
      <inertia ixx="4.53813e-05" iyy="1.3363e-06" izz="4.55555e-05" ixy="1.8569e-06" iyz="-1.3281e-06" ixz="-1.651e-07"/>
    </inertial>
    <visual>
      <origin xyz="0.0 0.0 0.0" rpy="0.0 0.0 0.0"/>
      <geometry>
        <mesh filename="../mesh/overconstrained/link2.obj" scale="0.001 0.001 0.001"/>
      </geometry>
    </visual>
    <collision>
      <origin xyz="0.0 0.0 0.0" rpy="0.0 0.0 0.0"/>
      <geometry>
        <mesh filename="../mesh/overconstrained/link2.obj" scale="0.001 0.001 0.001"/>
      </geometry>
    </collision>
  </link>
  <link name="d-link4">
    <inertial>
      <origin xyz="-0.0026422902 -0.067590774 -0.0033849791" rpy="0 0 0"/>
      <mass value="0.0275608119"/>
      <inertia ixx="3.84633e-05" iyy="1.4218e-06" izz="3.88256e-05" ixy="-1.6444e-06" iyz="4.345e-07" ixz="-2.013e-07"/>
    </inertial>
    <visual>
      <origin xyz="0.0 0.0 0.0" rpy="0.0 0.0 0.0"/>
      <geometry>
        <mesh filename="../mesh/overconstrained/link4.obj" scale="0.001 0.001 0.001"/>
      </geometry>
    </visual>
    <collision>
      <origin xyz="0.0 0.0 0.0" rpy="0.0 0.0 0.0"/>
      <geometry>
        <mesh filename="../mesh/overconstrained/link4.obj" scale="0.001 0.001 0.001"/>
      </geometry>
    </collision>
  </link>
  <link name="d-link3">
    <inertial>
      <origin xyz="0.002386501 -0.0533785592 -0.0003073645" rpy="0 0 0"/>
      <mass value="0.0217645964"/>
      <inertia ixx="3.57111e-05" iyy="1.2113e-06" izz="3.54138e-05" ixy="1.7199e-06" iyz="-4.1867e-06" ixz="1.471e-07"/>
    </inertial>
    <visual>
      <origin xyz="0.0 0.0 0.0" rpy="0.0 0.0 0.0"/>
      <geometry>
        <mesh filename="../mesh/overconstrained/link3.obj" scale="0.001 0.001 0.001"/>
      </geometry>
    </visual>
    <collision>
      <origin xyz="0.0 0.0 0.0" rpy="0.0 0.0 0.0"/>
      <geometry>
        <mesh filename="../mesh/overconstrained/link3.obj" scale="0.001 0.001 0.001"/>
      </geometry>
    </collision>
  </link>
  <joint name="d-module_to_parent" type="fixed">
    <parent link="gripper_base"/>
    <child link="d-base_motor_frame"/>
    <origin xyz="0 0.1 0" rpy="3.14159265 0 3.14159265"/>
  </joint>
  <joint name="d-fix_xm430_0" type="fixed">
    <parent link="d-base_motor_frame"/>
    <child link="d-xm430_0"/>
    <origin xyz="0 0 0.054" rpy="0 0 0"/>
  </joint>
  <joint name="d-fix_xm430_1" type="fixed">
    <parent link="d-dual_servo_shell"/>
    <child link="d-xm430_1"/>
    <origin xyz="0 0.019 0.0334" rpy="-1.570796325 0 0"/>
  </joint>
  <joint name="d-fix_xm430_2" type="fixed">
    <parent link="d-xm430_1"/>
    <child link="d-xm430_2"/>
    <origin xyz="0 -0.0465 0" rpy="0 0 0"/>
  </joint>
  <joint name="d-fix_transmission" type="fixed">
    <parent link="d-xm430_2"/>
    <child link="d-dual_servo_transmission"/>
    <origin xyz="0 0 0" rpy="0 0 0"/>
  </joint>
  <joint name="d-dof1" type="revolute">
    <parent link="d-xm430_0"/>
    <child link="d-dual_servo_shell"/>
    <axis xyz="0 0 -1"/>
    <limit effort="1000" lower="-3.14159265" upper="3.14159265" velocity="1000"/>
    <origin xyz="0 0 0" rpy="0 0 0"/>
  </joint>
  <joint name="d-dof2" type="revolute">
    <parent link="d-xm430_2"/>
    <child link="d-link4"/>
    <axis xyz="0 0 -1"/>
    <limit effort="1000" lower="-3.14159265" upper="3.14159265" velocity="1000"/>
    <origin xyz="0 0 0.0368" rpy="0 0 0"/>
  </joint>
  <joint name="d-dof3" type="revolute">
    <parent link="d-xm430_2"/>
    <child link="d-link1"/>
    <axis xyz="0 0 -1"/>
    <limit effort="1000" lower="-3.14159265" upper="3.14159265" velocity="1000"/>
    <origin xyz="0 0 0.0388" rpy="0 0 0"/>
  </joint>
  <joint name="d-link4_to_link3" type="revolute">
    <parent link="d-link4"/>
    <child link="d-link3"/>
    <axis xyz="0 0 1"/>
    <limit effort="1000" lower="-3.14159265" upper="3.14159265" velocity="1000"/>
    <origin xyz="0.000707 -0.1 0.001707" rpy="0 0.7853981625 0"/>
  </joint>
  <joint name="d-link1_to_link2" type="revolute">
    <parent link="d-link1"/>
    <child link="d-link2"/>
    <axis xyz="0 0 1"/>
    <limit effort="1000" lower="-3.14159265" upper="3.14159265" velocity="1000"/>
    <origin xyz="-0.000707 -0.1 -0.000293" rpy="0 -0.7853981625 0"/>
  </joint>
</robot>
